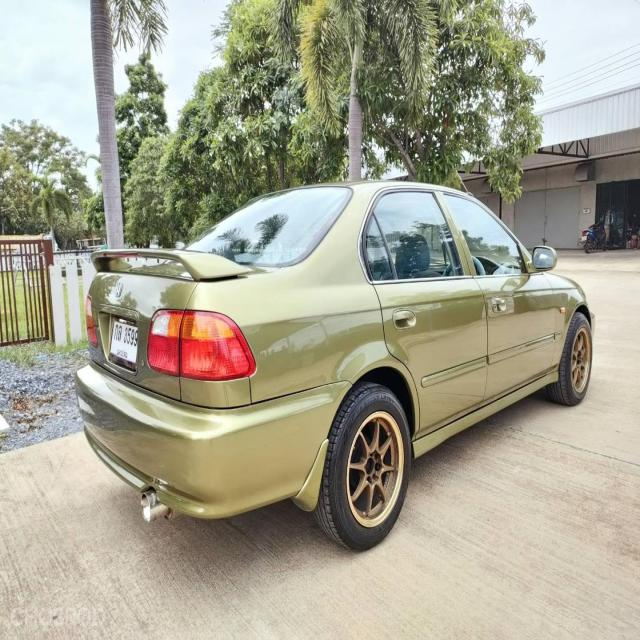license_plate: (107, 314, 144, 375)
